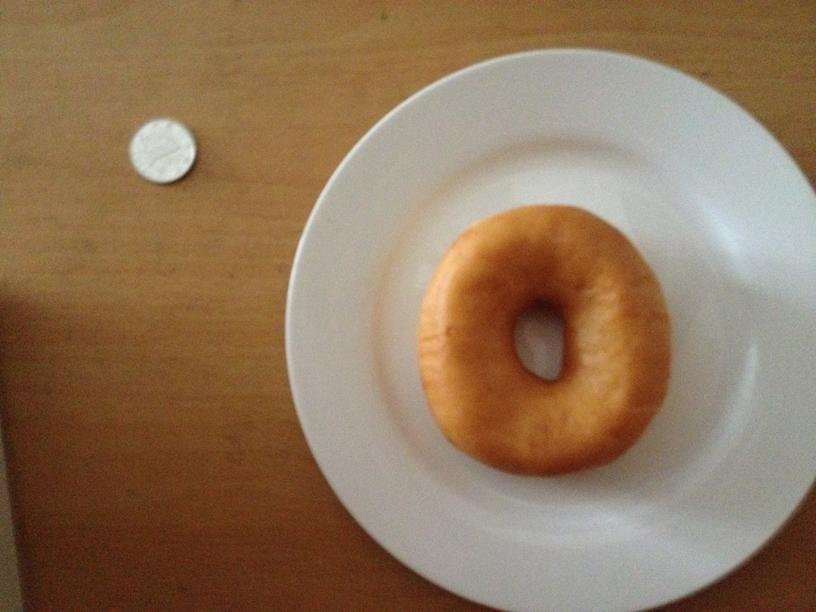coin: (128, 117, 194, 184)
doughnut: (419, 207, 668, 477)
